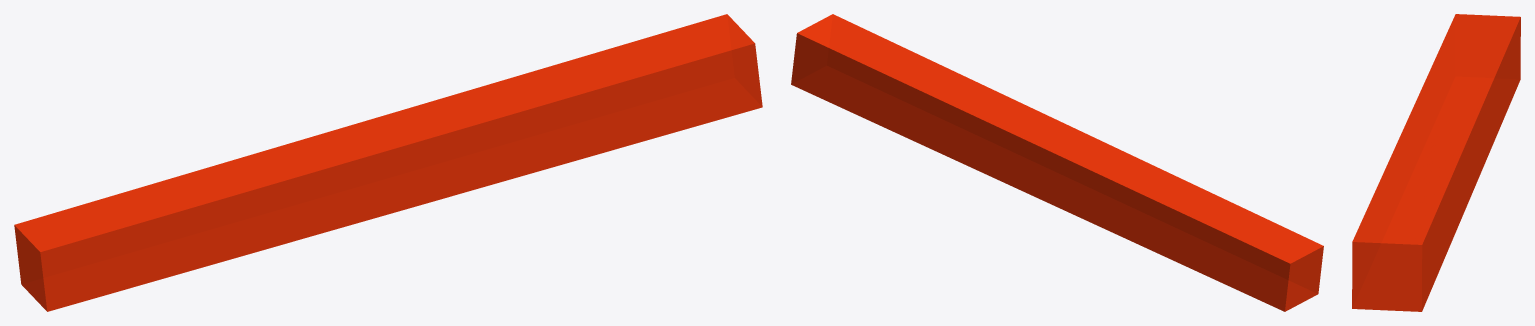
Rendered from Event_420107950_EErechit_41.fbx.
3 renders of one model, left to right at view 1: azimuth 30°, elevation 25°; view 2: azimuth 150°, elevation 25°; view 3: azimuth 270°, elevation 25°, orthographic. The views are drawn at different scales.
Visible parts, largest first — view 1: Model; view 2: Model; view 3: Model.
Part boxes in pixels (box(x1,y1,x2,y2)): Model: box(14, 14, 762, 311); Model: box(791, 14, 1323, 311); Model: box(1352, 14, 1520, 311).
Bounding box in the file's own units: 0.8323 × 0.1749 × 0.1861.
